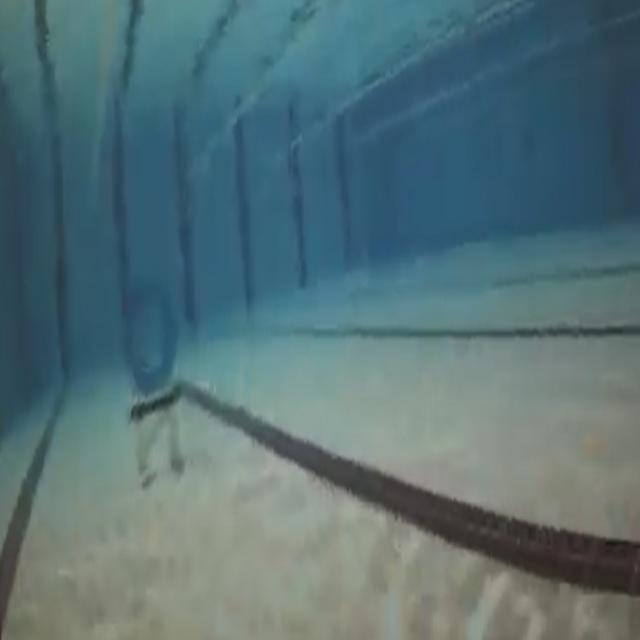Circle: (126, 271, 180, 389)
